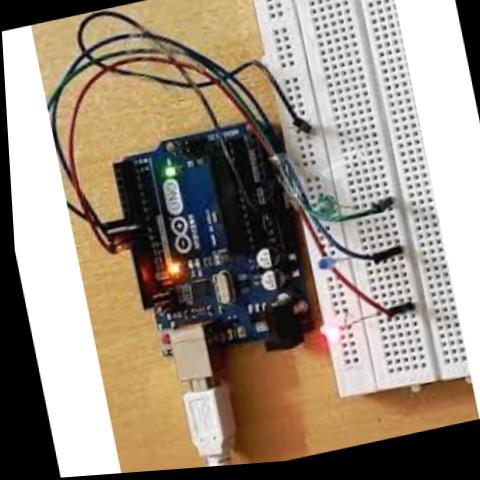Arduino-Uno: (105, 116, 319, 395)
